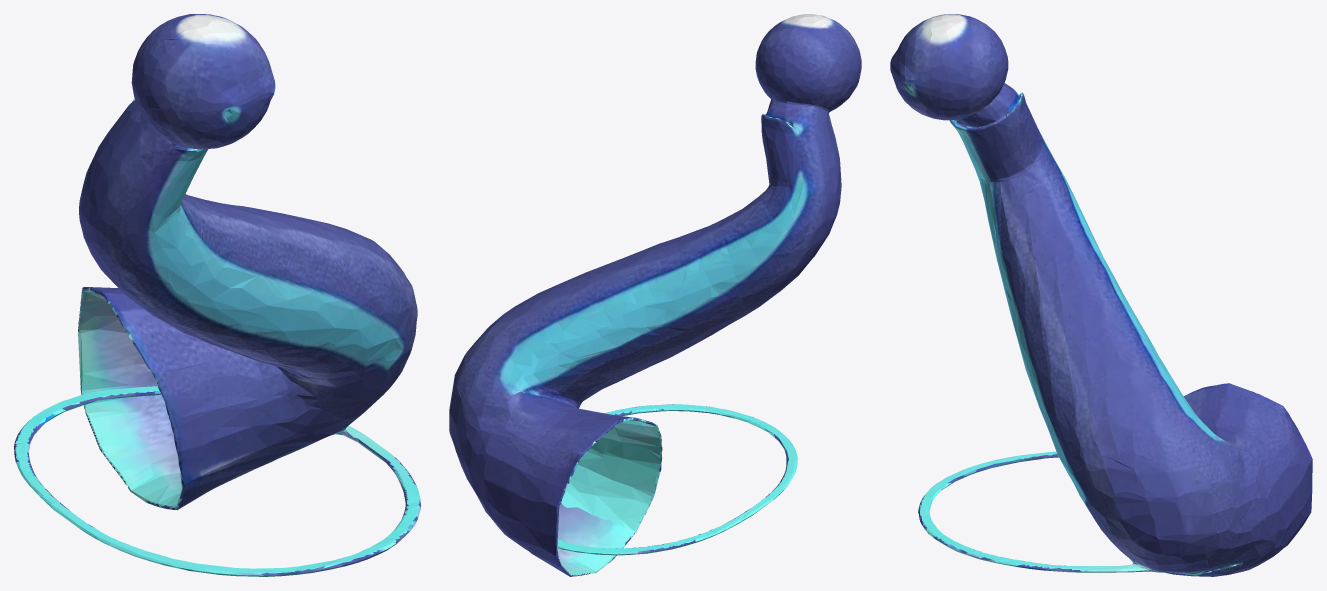
Rendered from creature-098.lod.glb.
3 views of the same model, side by side, from view 1: azimuth 30°, elevation 25°; view 2: azimuth 150°, elevation 25°; view 3: azimuth 270°, elevation 25° (orthographic). The views are drawn at different scales.
Parts seen in each view (by area): view 1: tmp5qr1gipp.ply; view 2: tmp5qr1gipp.ply; view 3: tmp5qr1gipp.ply.
Boxes of the visible parts, <box> form: tmp5qr1gipp.ply: <box>14,14,420,576</box>; tmp5qr1gipp.ply: <box>449,14,861,576</box>; tmp5qr1gipp.ply: <box>890,14,1312,576</box>.
Size of the model in its own units: 1.34 by 1.99 by 1.53.
1 material, 1 textured.
